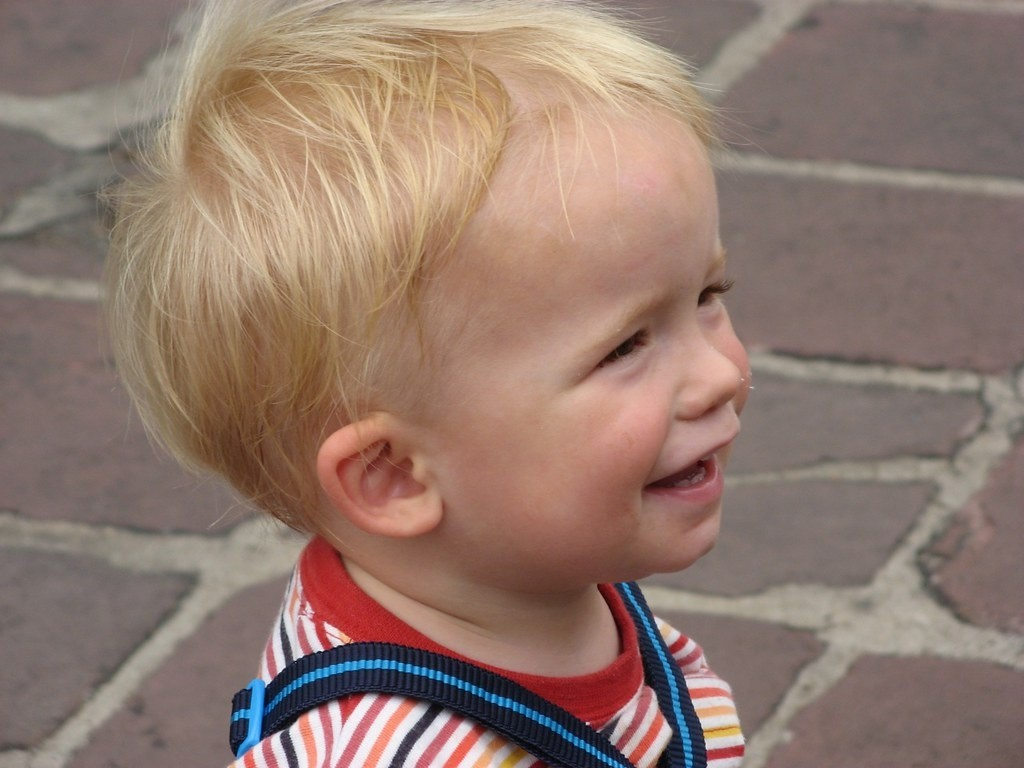face_no_mask: (244, 27, 752, 594)
